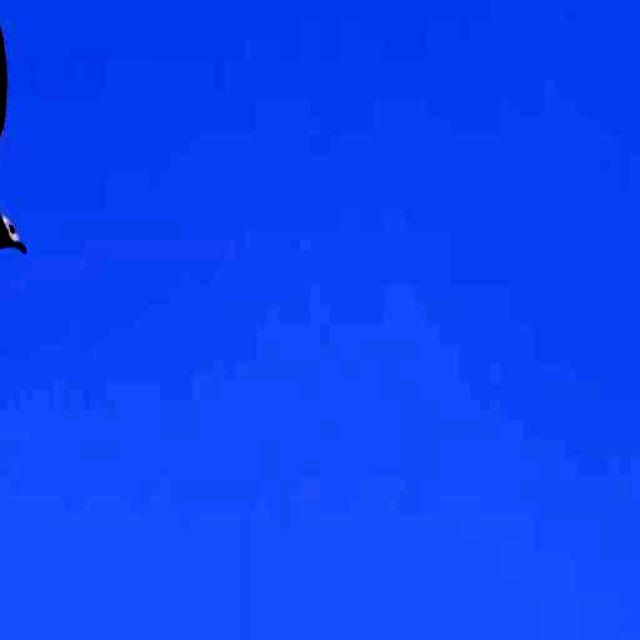airplane: (0, 0, 30, 424)
